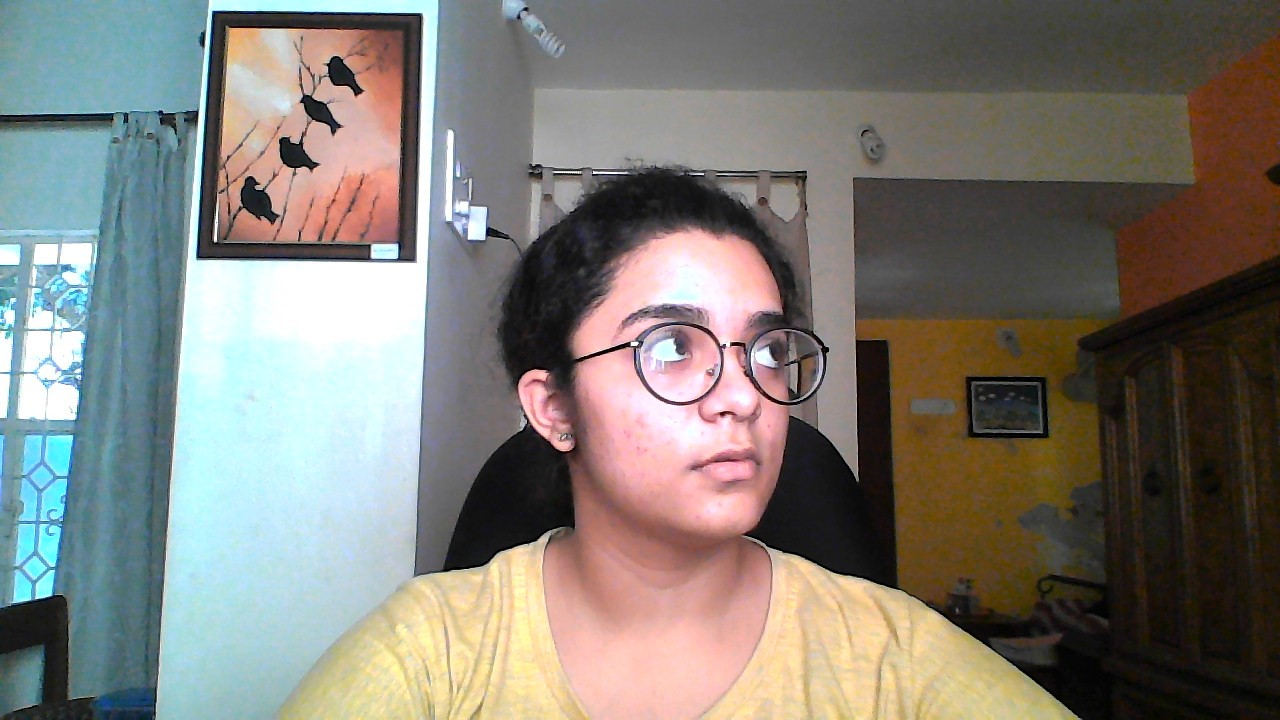person: (378, 119, 1078, 720)
